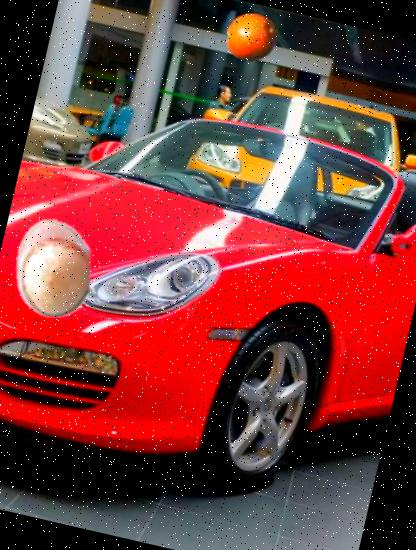Granadilla: (210, 2, 284, 74)
Hazelnut: (0, 208, 113, 330)
